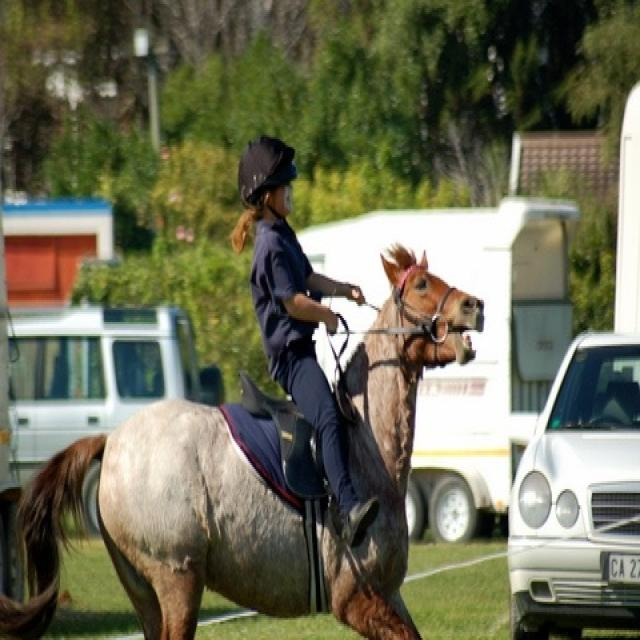car: (0, 302, 224, 537), (506, 328, 638, 638)
horse: (19, 244, 485, 638)
